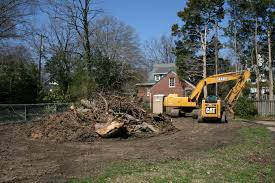excavator: (163, 70, 250, 123)
